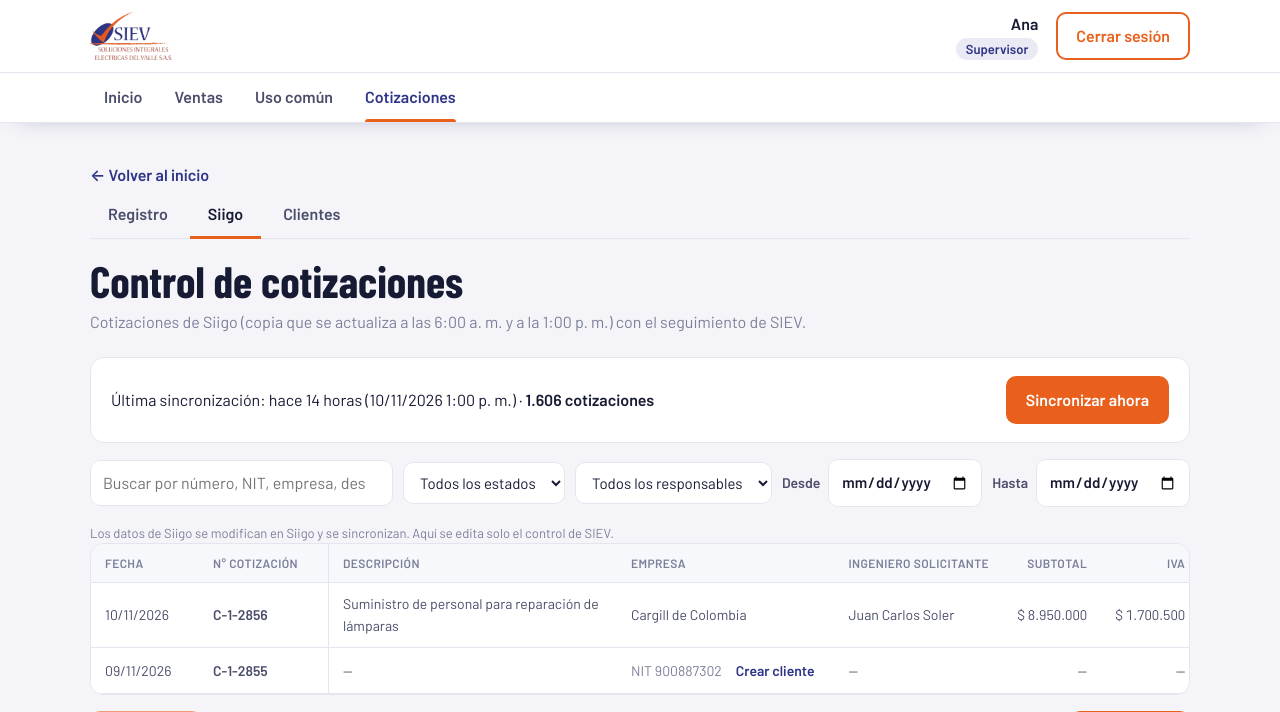
it: tabla de control › muestra empresa, o NIT + "Crear cliente" cuando falta
The image size is (1280, 712).
Expected: the text "Cargill de Colombia" is shown, [631,606,747,623]
Expected: the text "10/11/2026" is shown, [91,583,199,648]
Click the button "Crear cliente" at (775, 670), box [730,659,820,682]
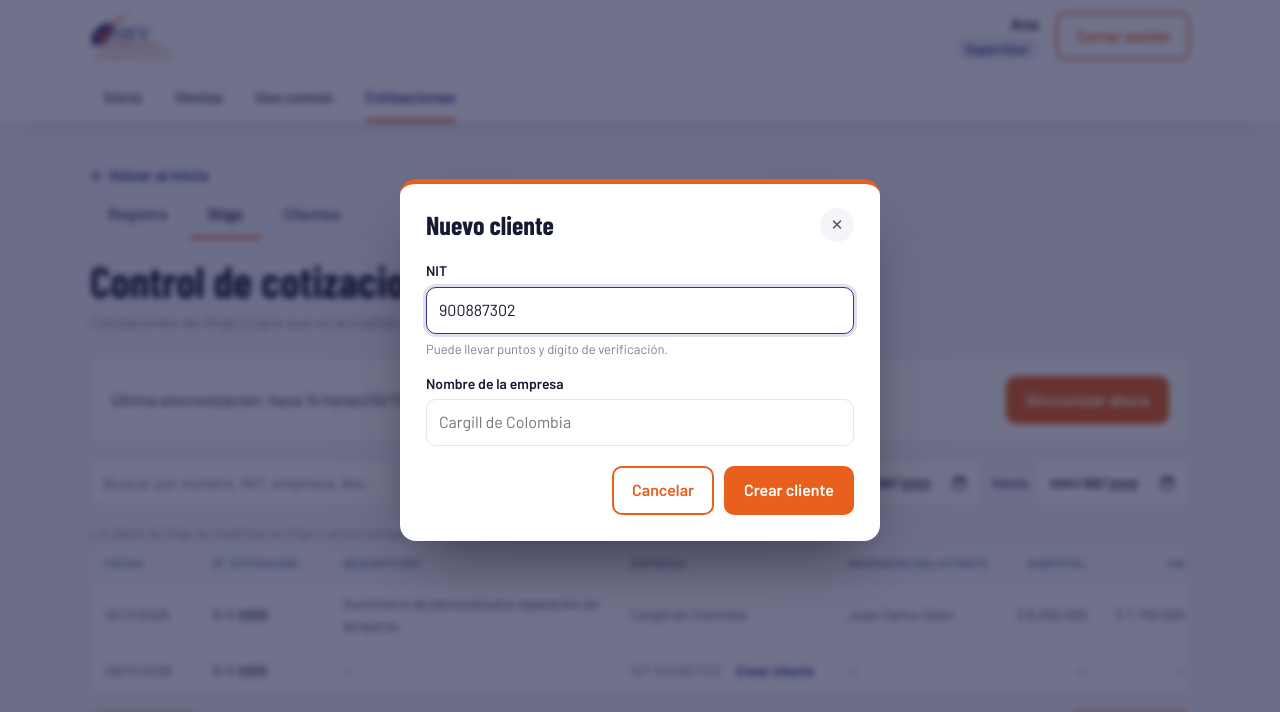
Expected: the field labelled "NIT" holds "900887302", [426,287,854,334]
